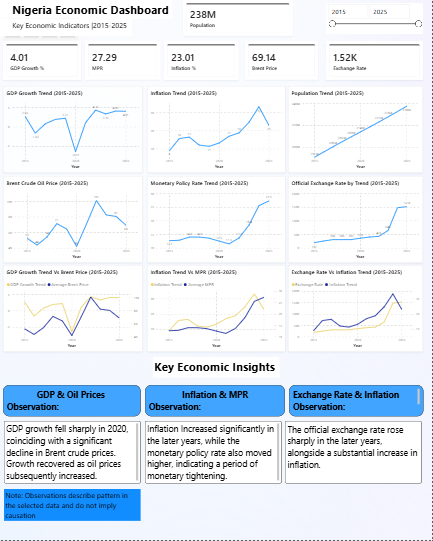

The dashboard page shown, as its layout file describes it:
{"tool":"powerbi","page":{"name":"Page 1","canvas":[1600,2000],"ordinal":0},"visuals":[{"type":"tableEx","box":[10,0,280,280],"z":0},{"type":"lineChart","title":"GDP Growth Trend (2015-2025)","fields":{"Y":["Sum(GDP.GDP)"],"Category":["DimYear.Year"]},"box":[10.2,318.4,518.4,322.4],"z":1000},{"type":"lineChart","title":"Inflation Trend (2015-2025)","fields":{"Y":["Sum(Inflation.Inflation)"],"Category":["DimYear.Year"]},"box":[542.9,318.4,514.3,322.4],"z":2000},{"type":"lineChart","title":"Population Trend (2015-2025)","fields":{"Y":["Sum(Population.Population)"],"Category":["DimYear.Year"]},"box":[1067.3,318.4,500,322.4],"z":3000},{"type":"lineChart","title":"Monetary Policy Rate Trend (2015-2025)","fields":{"Category":["DimYear.Year"],"Y":["Avg(MPR Clean.Average MPR)"]},"box":[542.9,651,514.3,322.4],"z":4000},{"type":"lineChart","title":"Brent Crude Oil Price (2015-2025)","fields":{"Category":["DimYear.Year"],"Y":["Avg(DCOILBRENTEU (2).Average Brent Price)"]},"box":[10.2,651,518.4,322.4],"z":5000},{"type":"lineChart","title":"Official Exchange Rate by Trend (2015-2025)","fields":{"Category":["DimYear.Year"],"Y":["Sum(Official Exchange Rate.Rate)"]},"box":[1067.3,651,500,322.4],"z":6000},{"type":"slicer","fields":{"Values":["DimYear.Year"]},"box":[1208.2,10.2,359.2,114.3],"z":7000},{"type":"cardVisual","fields":{"Data":["GDP.Latest GDP Growth"]},"box":[10.2,151,289.8,144.9],"z":8000},{"type":"actionButton","box":[0,0,100,40],"z":9000},{"type":"cardVisual","fields":{"Data":["Inflation.Latest Inflation"]},"box":[608.2,151,275.5,144.9],"z":10000},{"type":"cardVisual","fields":{"Data":["Population.Latest Population"]},"box":[679.6,0,406.1,132.7],"z":11000},{"type":"cardVisual","fields":{"Data":["MPR Clean.Latest MPR"]},"box":[314.3,153.1,279.6,142.9],"z":12000},{"type":"cardVisual","fields":{"Data":["Brent Price.Latest Brent Price"]},"box":[906.1,151,271.4,142.9],"z":13000},{"type":"cardVisual","fields":{"Data":["Official Exchange Rate.Latest Exchange Rate"]},"box":[1208.2,151,359.2,144.9],"z":14000},{"type":"textbox","box":[0,0,636.2,70.2],"z":15000},{"type":"textbox","box":[0,70.2,489.4,63.8],"z":16000},{"type":"lineChart","title":"GDP Growth Trend Vs Brent Price (2015-2025)","fields":{"Category":["DimYear.Year"],"Y":["Avg(GDP.GDP Growth Trend)"],"Y2":["Avg(DCOILBRENTEU (2).Average Brent Price)"]},"box":[10,983,518,322],"z":17000},{"type":"lineChart","title":"Inflation Trend Vs MPR (2015-2025)","fields":{"Category":["DimYear.Year"],"Y":["Sum(Inflation.Inflation)"],"Y2":["Sum(MPR Clean.Average MPR)"]},"box":[543,983,514,322],"z":18000},{"type":"lineChart","title":"Exchange Rate Vs Inflation Trend (2015-2025)","fields":{"Category":["DimYear.Year"],"Y":["Sum(Official Exchange Rate.Rate)"],"Y2":["Sum(Inflation.Inflation)"]},"box":[1067,983,500,322],"z":19000},{"type":"textbox","box":[565.8,1323.7,468.4,76.3],"z":20000},{"type":"textbox","box":[10.2,1426.5,510.2,116.3],"z":21000},{"type":"textbox","box":[536.7,1426.5,518.4,116.3],"z":22000},{"type":"textbox","box":[1069.4,1426.5,498,116.3],"z":23000},{"type":"textbox","box":[14.3,1559.2,506.1,230.6],"z":24000},{"type":"textbox","box":[536.7,1559.2,506.1,230.6],"z":25000},{"type":"textbox","box":[1057.1,1559.2,506.1,230.6],"z":26000},{"type":"textbox","box":[14.3,1810.2,506.1,118.4],"z":26001}]}

Visuals, with their boxes in screenshot pixels (x1, y1, x2, y2), scaled from the page's 1600x2000 canvas onto the 433x541 screenshot:
tableEx: pyautogui.locateOnScreen(3, 0, 78, 76)
"GDP Growth Trend (2015-2025)" lineChart: pyautogui.locateOnScreen(3, 86, 143, 173)
"Inflation Trend (2015-2025)" lineChart: pyautogui.locateOnScreen(147, 86, 286, 173)
"Population Trend (2015-2025)" lineChart: pyautogui.locateOnScreen(289, 86, 424, 173)
"Monetary Policy Rate Trend (2015-2025)" lineChart: pyautogui.locateOnScreen(147, 176, 286, 263)
"Brent Crude Oil Price (2015-2025)" lineChart: pyautogui.locateOnScreen(3, 176, 143, 263)
"Official Exchange Rate by Trend (2015-2025)" lineChart: pyautogui.locateOnScreen(289, 176, 424, 263)
slicer - DimYear.Year: pyautogui.locateOnScreen(327, 3, 424, 34)
cardVisual - GDP.Latest GDP Growth: pyautogui.locateOnScreen(3, 41, 81, 80)
actionButton: pyautogui.locateOnScreen(0, 0, 27, 11)
cardVisual - Inflation.Latest Inflation: pyautogui.locateOnScreen(165, 41, 239, 80)
cardVisual - Population.Latest Population: pyautogui.locateOnScreen(184, 0, 294, 36)
cardVisual - MPR Clean.Latest MPR: pyautogui.locateOnScreen(85, 41, 161, 80)
cardVisual - Brent Price.Latest Brent Price: pyautogui.locateOnScreen(245, 41, 319, 79)
cardVisual - Official Exchange Rate.Latest Exchange Rate: pyautogui.locateOnScreen(327, 41, 424, 80)
textbox: pyautogui.locateOnScreen(0, 0, 172, 19)
textbox: pyautogui.locateOnScreen(0, 19, 132, 36)
"GDP Growth Trend Vs Brent Price (2015-2025)" lineChart: pyautogui.locateOnScreen(3, 266, 143, 353)
"Inflation Trend Vs MPR (2015-2025)" lineChart: pyautogui.locateOnScreen(147, 266, 286, 353)
"Exchange Rate Vs Inflation Trend (2015-2025)" lineChart: pyautogui.locateOnScreen(289, 266, 424, 353)
textbox: pyautogui.locateOnScreen(153, 358, 280, 379)
textbox: pyautogui.locateOnScreen(3, 386, 141, 417)
textbox: pyautogui.locateOnScreen(145, 386, 286, 417)
textbox: pyautogui.locateOnScreen(289, 386, 424, 417)
textbox: pyautogui.locateOnScreen(4, 422, 141, 484)
textbox: pyautogui.locateOnScreen(145, 422, 282, 484)
textbox: pyautogui.locateOnScreen(286, 422, 423, 484)
textbox: pyautogui.locateOnScreen(4, 490, 141, 522)
